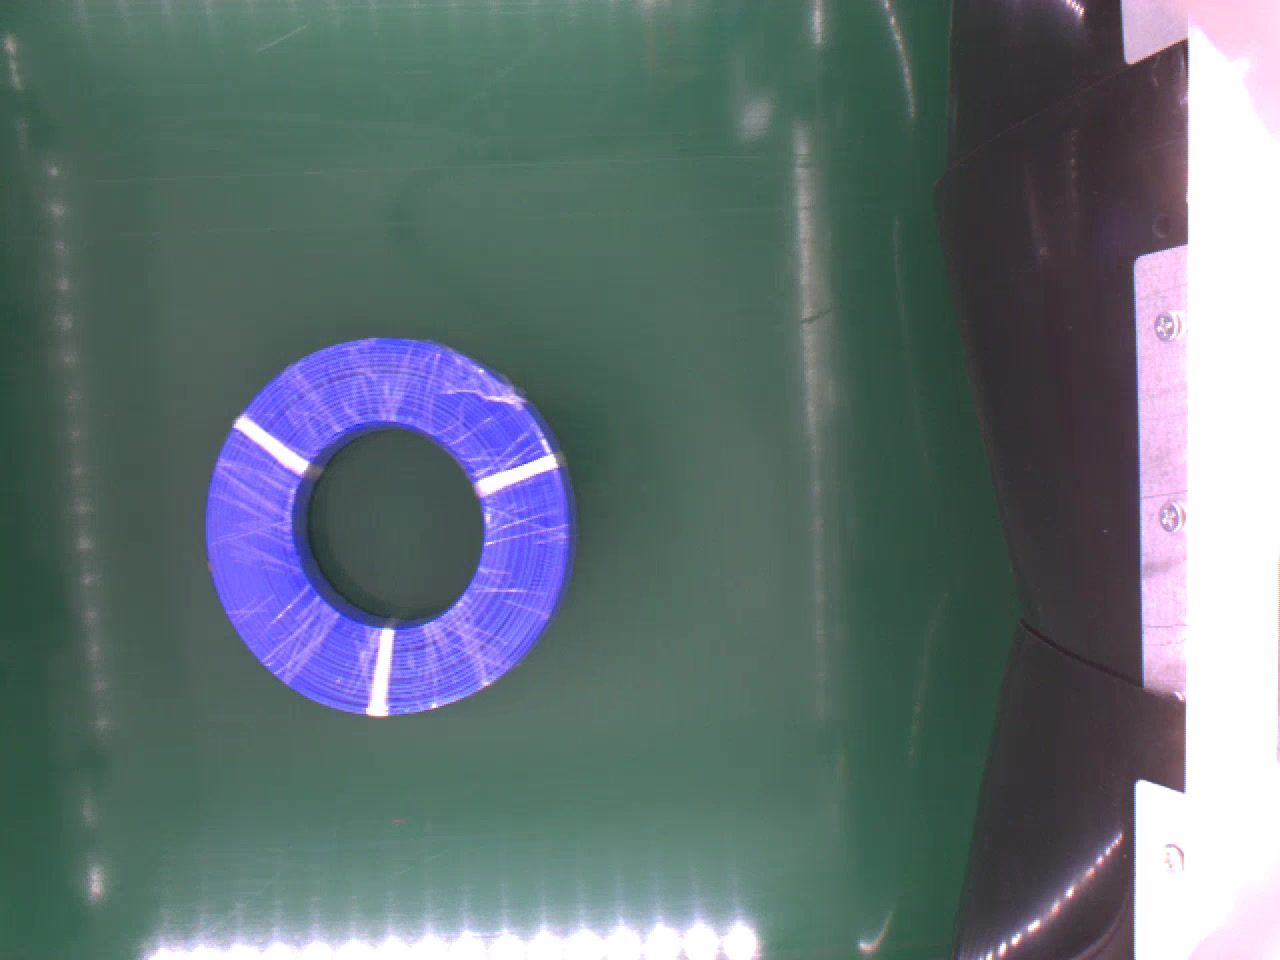blue: (201, 326, 583, 719)
